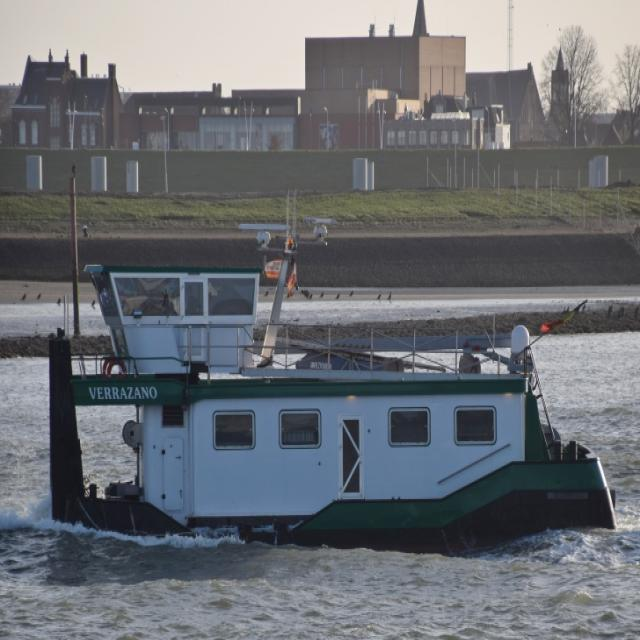tugboat: (44, 214, 625, 565)
